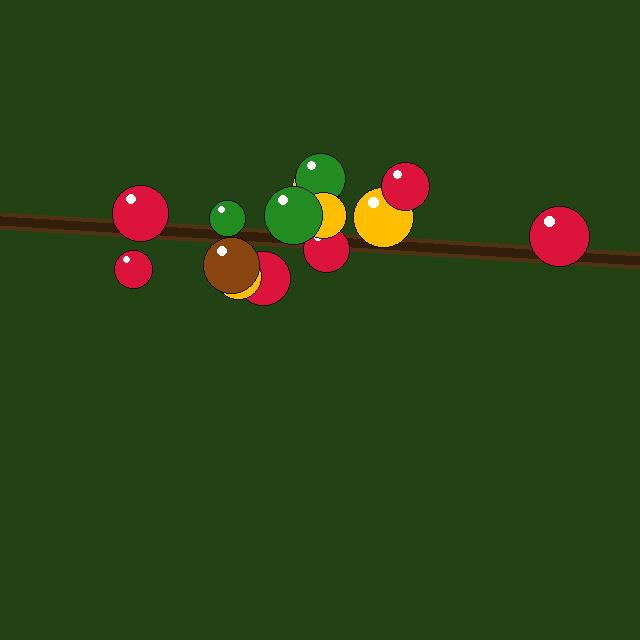Overripe: (203, 237, 259, 293)
Ripe: (529, 206, 589, 266), (112, 185, 168, 241), (236, 251, 290, 305), (381, 162, 429, 210), (303, 226, 349, 272), (114, 250, 152, 288)
Ripening: (353, 187, 413, 247), (292, 163, 340, 211), (300, 192, 346, 238), (215, 253, 261, 299)
Unripe: (264, 186, 322, 244), (295, 153, 345, 203), (209, 200, 245, 236)
